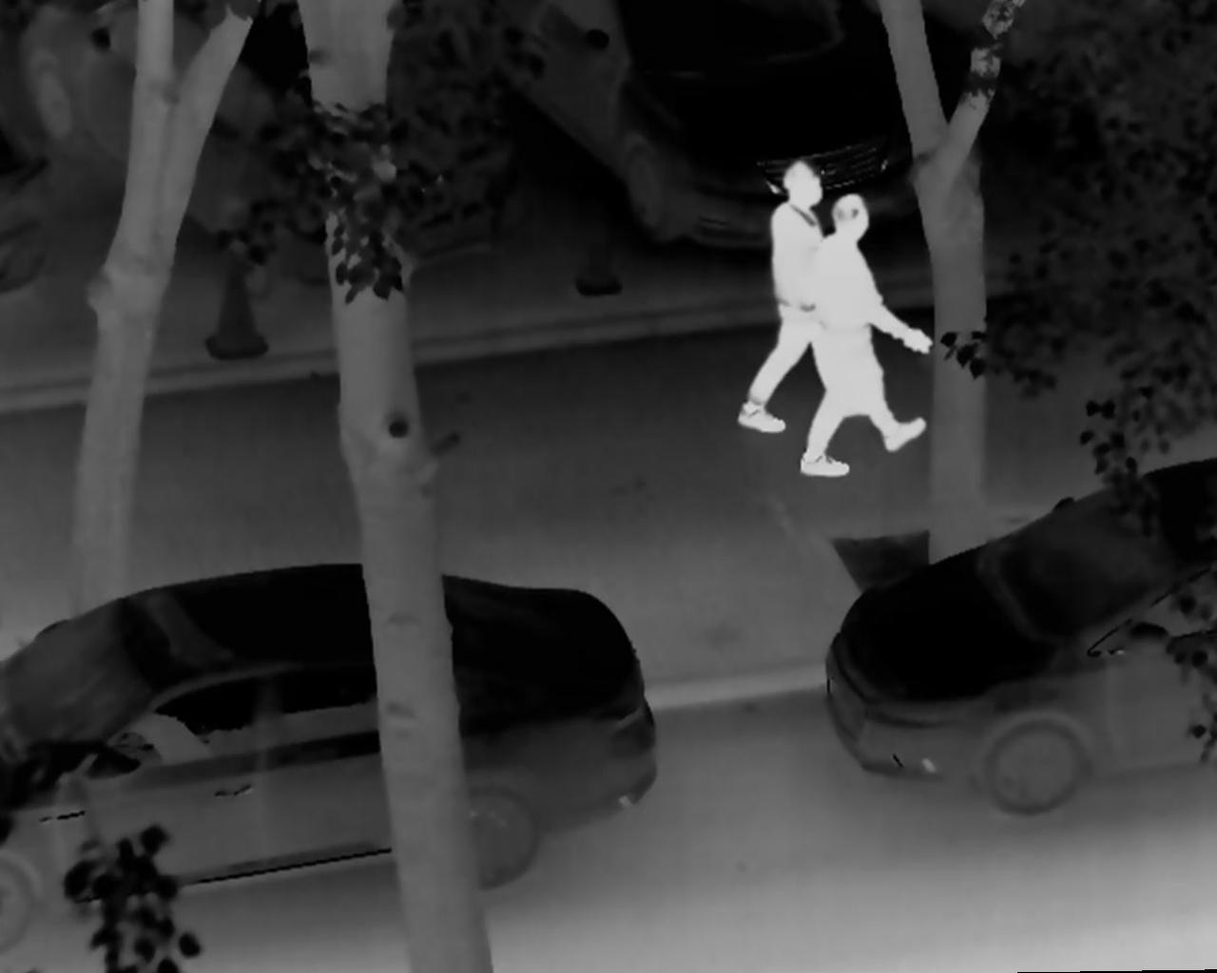person: (795, 185, 933, 481), (733, 154, 856, 436)
